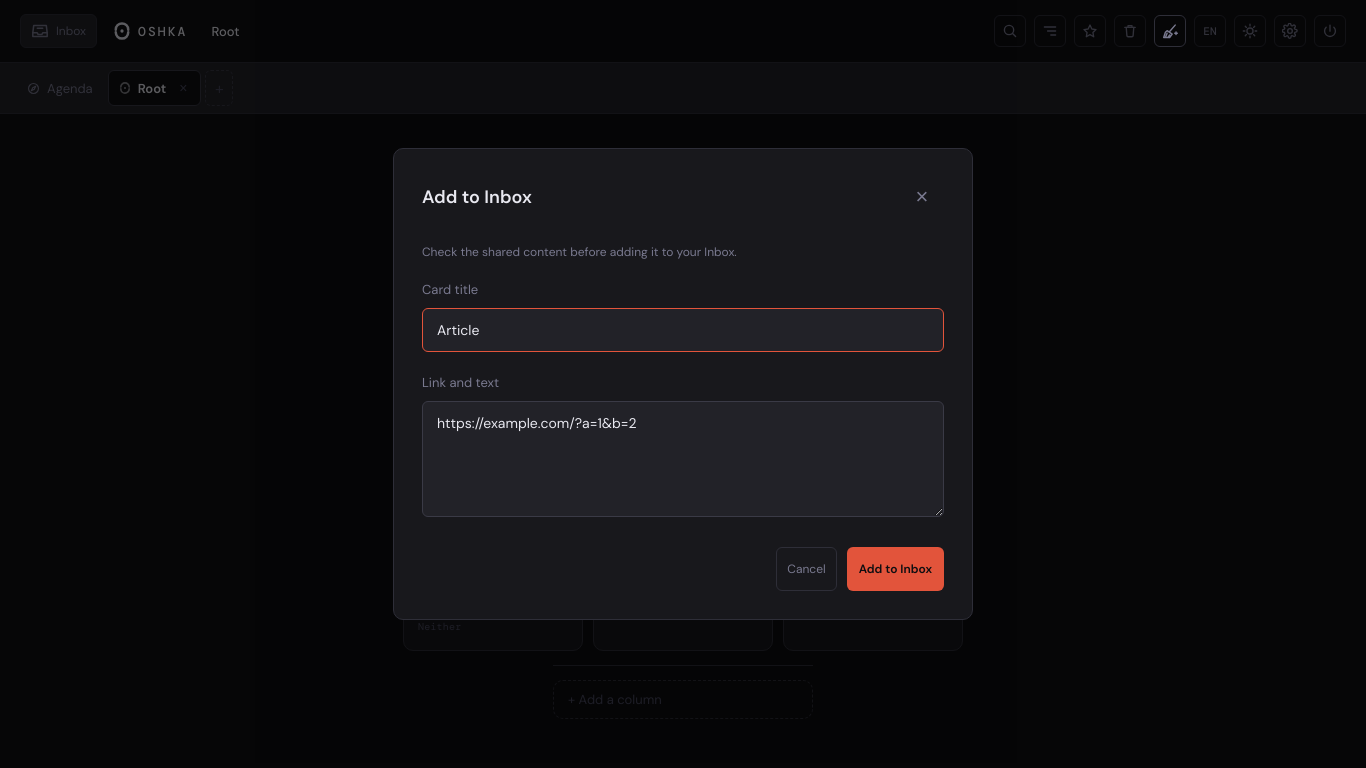
Test: cancels without creating a card or restoring the pending share on reload
This screenshot has width=1366, height=768.
Click the button with class "modal-close" at {"x": 922, "y": 197}, box [900, 175, 944, 219]
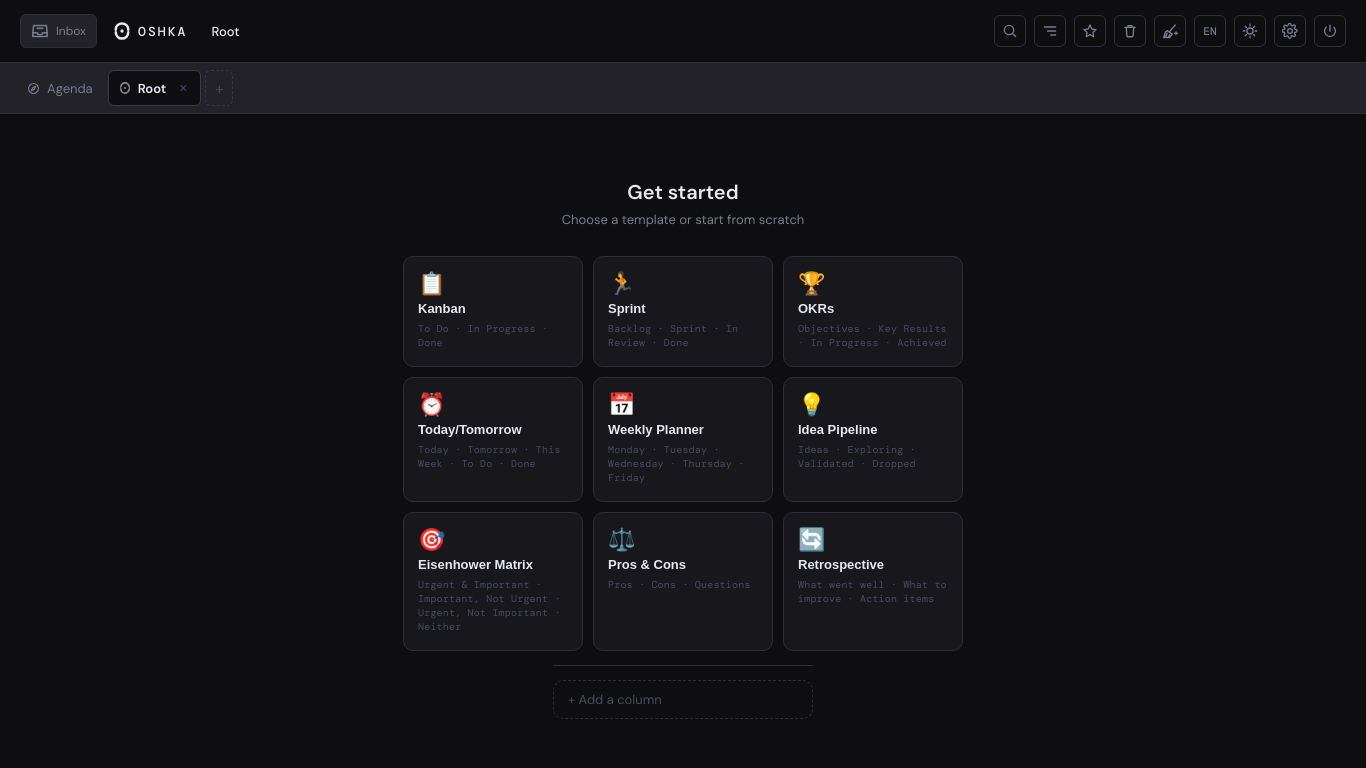
Result: the dialog with class "shared-capture" is gone
